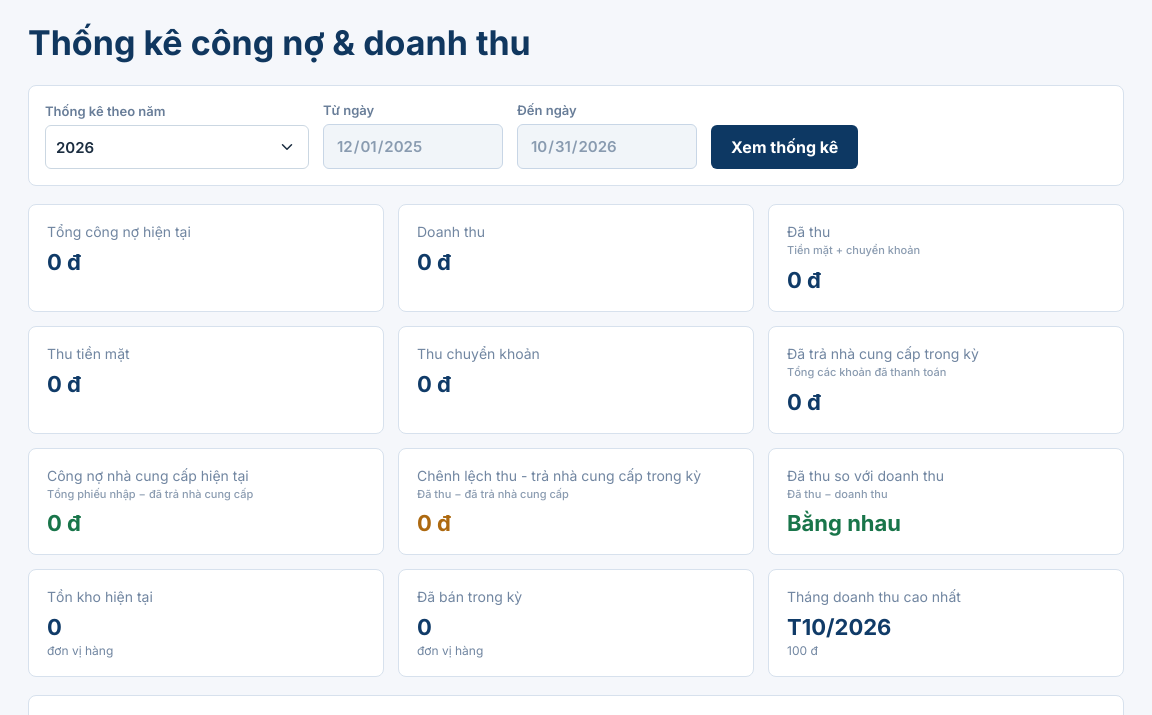
biểu đồ và bảng dùng tháng hoặc ngày theo bộ lọc
Click the button named "Mở danh sách": x=287, y=147 [272,132,302,162]
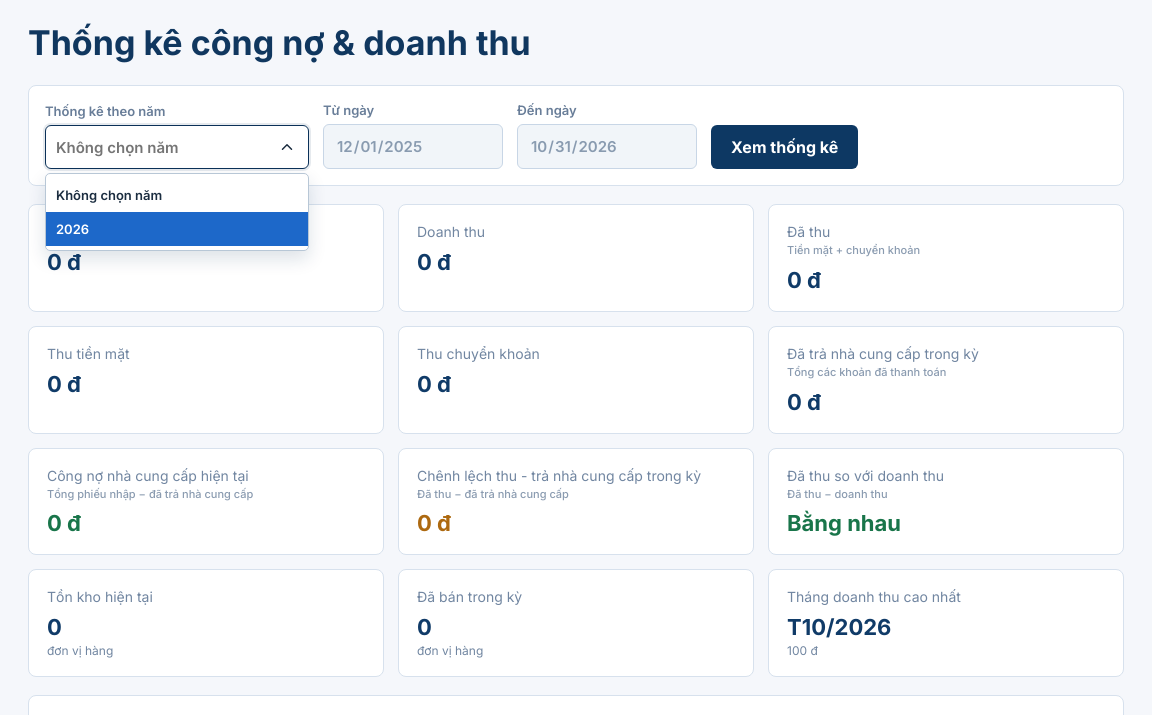
Click the option "Không chọn năm": x=109, y=195 [46,178,308,212]
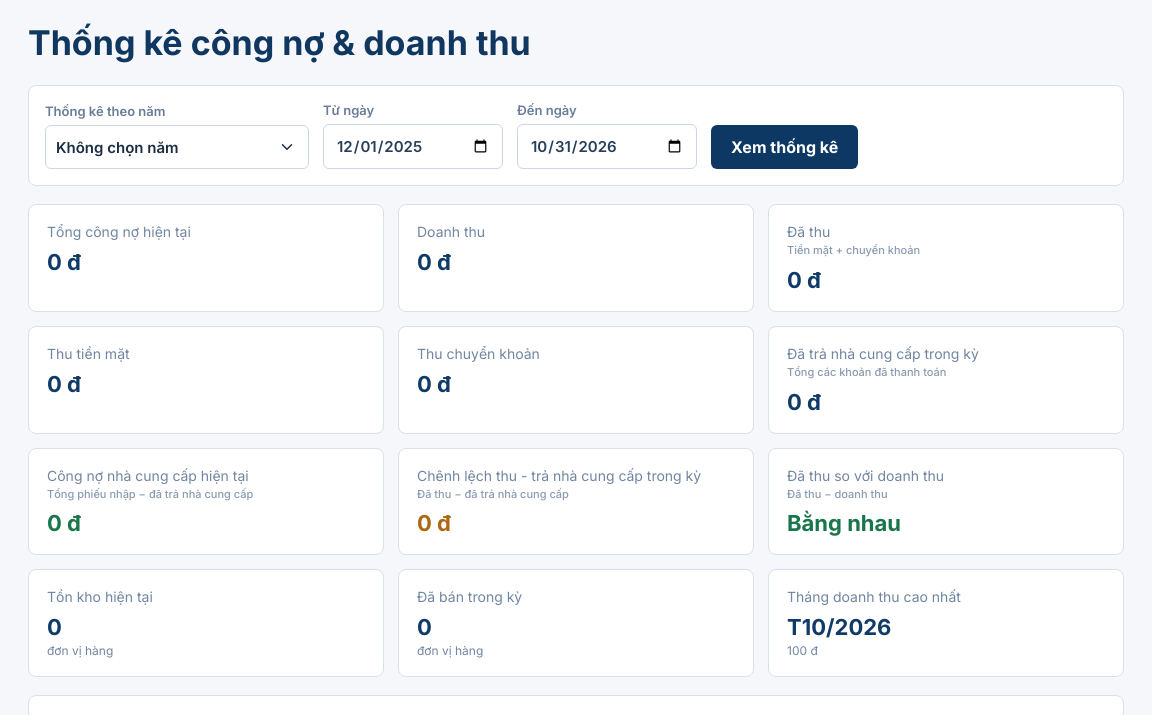
In the date field labelled "Từ ngày": x=413, y=146 [323,124,503,169], type "2026-10-29"
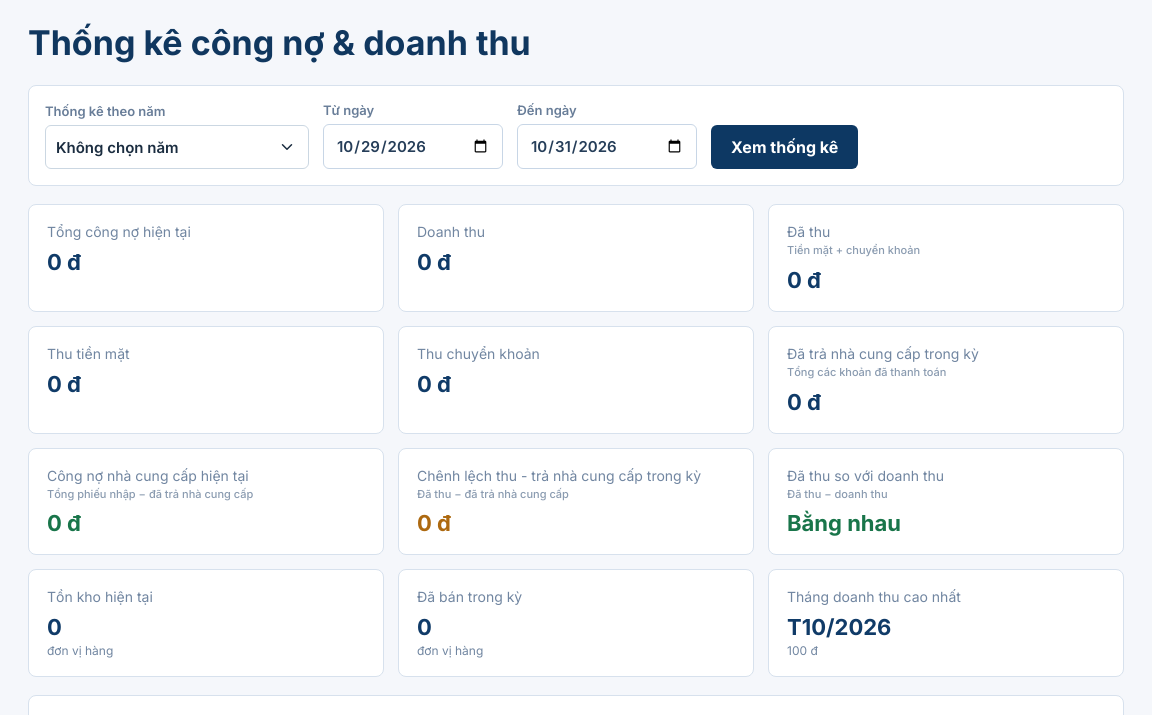
In the date field labelled "Đến ngày": x=607, y=146 [517,124,697,169], type "2026-10-29"
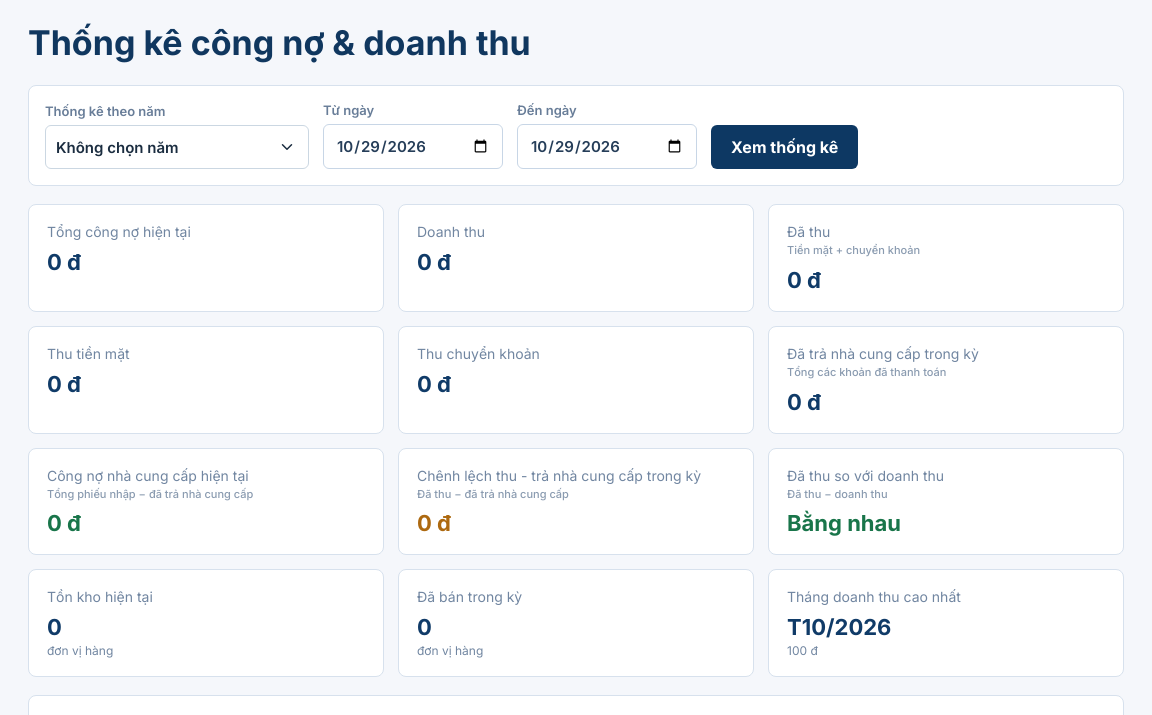
Click the button "Xem thống kê": x=785, y=147 [711,125,858,169]
(page scrolled)
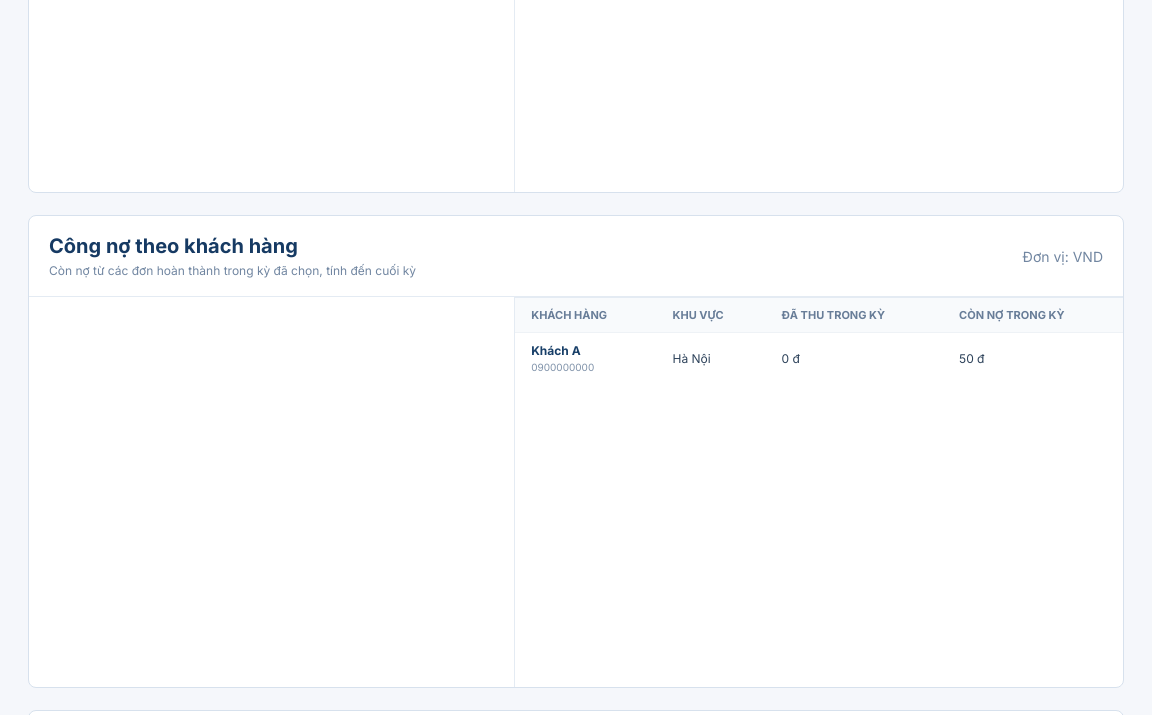
Now the text "50 đ" is shown, box [943,333,1123,383]
